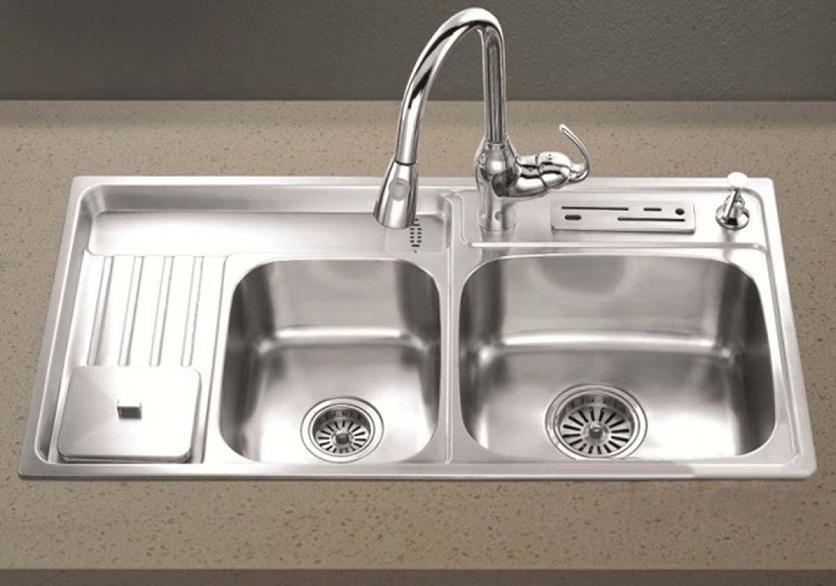Lavaplatos: (39, 0, 815, 490)
